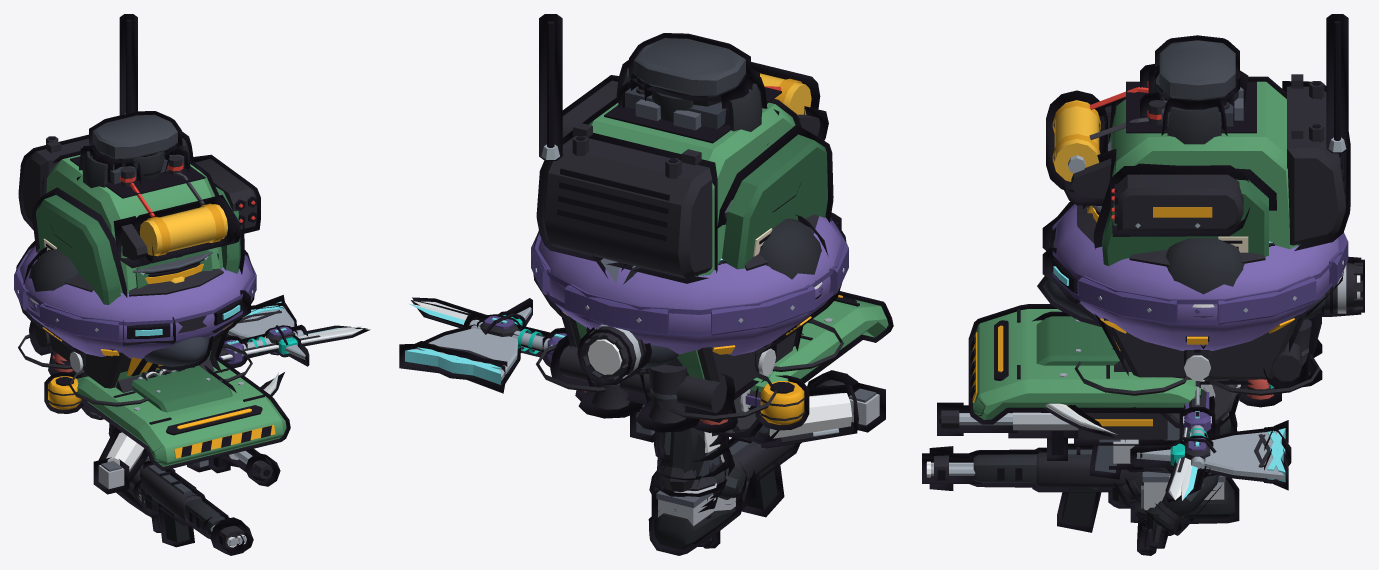
Rendered from fps-bots.glb.
The picture shows the model from 3 angles, left to right: view 1: azimuth 30°, elevation 25°; view 2: azimuth 150°, elevation 25°; view 3: azimuth 270°, elevation 25°; orthographic projection. The views are drawn at different scales.
Visible parts, largest first — view 1: BOT_GUNNER_Body, BOT_GUNNER_Lid, BOT_BLADER_Body, BOT_JET_ArmR, BOT_BLADER_Body2, BOT_JET_Hips, BOT_SOLDIER_ArmL, BOT_BLADER_Axe, BOT_BLADER_Hub, BOT_SOLDIER_ArmR, BOT_BLADER_Axe2, BOT_JET_Torso (+5 smaller); view 2: BOT_GUNNER_Body, BOT_BLADER_Body, BOT_JET_Hips, BOT_BLADER_Body2, BOT_JET_Torso, BOT_GUNNER_Lid, BOT_JET_ArmR, BOT_SOLDIER_ArmL, BOT_BLADER_Axe, BOT_HAWK_Body, BOT_BLADER_Axe2, BOT_BLADER_Hub (+9 smaller); view 3: BOT_GUNNER_Body, BOT_GUNNER_Lid, BOT_BLADER_Body, BOT_JET_ArmR, BOT_BLADER_Body2, BOT_JET_Hips, BOT_SOLDIER_ArmR, BOT_JET_Torso, BOT_BLADER_Axe2, BOT_HAWK_Body, BOT_BLADER_Axe, BOT_JET_ArmL (+10 smaller).
Part boxes in pixels (x1=…): BOT_GUNNER_Body: x1=18, y1=14, x2=260, y2=392; BOT_GUNNER_Lid: x1=72, y1=357, x2=290, y2=470; BOT_BLADER_Body: x1=16, y1=241, x2=255, y2=358; BOT_JET_ArmR: x1=129, y1=457, x2=253, y2=555; BOT_BLADER_Body2: x1=14, y1=249, x2=256, y2=345; BOT_JET_Hips: x1=78, y1=111, x2=194, y2=197; BOT_SOLDIER_ArmL: x1=93, y1=423, x2=147, y2=494; BOT_BLADER_Axe: x1=226, y1=302, x2=308, y2=363; BOT_BLADER_Hub: x1=44, y1=335, x2=247, y2=413; BOT_SOLDIER_ArmR: x1=147, y1=448, x2=280, y2=486; BOT_BLADER_Axe2: x1=227, y1=295, x2=309, y2=366; BOT_JET_Torso: x1=23, y1=247, x2=77, y2=311; BOT_GUNNER_Body: x1=536, y1=14, x2=833, y2=422; BOT_BLADER_Body: x1=532, y1=214, x2=846, y2=356; BOT_JET_Hips: x1=616, y1=33, x2=768, y2=144; BOT_BLADER_Body2: x1=531, y1=212, x2=848, y2=335; BOT_JET_Torso: x1=578, y1=214, x2=828, y2=432; BOT_GUNNER_Lid: x1=748, y1=291, x2=893, y2=409; BOT_JET_ArmR: x1=658, y1=370, x2=858, y2=517; BOT_SOLDIER_ArmL: x1=738, y1=382, x2=885, y2=448; BOT_BLADER_Axe: x1=412, y1=302, x2=555, y2=381; BOT_HAWK_Body: x1=577, y1=250, x2=783, y2=385; BOT_BLADER_Axe2: x1=399, y1=298, x2=532, y2=393; BOT_BLADER_Hub: x1=542, y1=327, x2=809, y2=430; BOT_GUNNER_Body: x1=1046, y1=14, x2=1350, y2=388; BOT_GUNNER_Lid: x1=968, y1=304, x2=1200, y2=424; BOT_BLADER_Body: x1=1050, y1=202, x2=1344, y2=350; BOT_JET_ArmR: x1=922, y1=443, x2=1170, y2=532; BOT_BLADER_Body2: x1=1042, y1=201, x2=1348, y2=341; BOT_JET_Hips: x1=1148, y1=35, x2=1248, y2=144; BOT_SOLDIER_ArmR: x1=937, y1=402, x2=1219, y2=479; BOT_JET_Torso: x1=1166, y1=238, x2=1322, y2=387; BOT_BLADER_Axe2: x1=1130, y1=420, x2=1288, y2=490; BOT_HAWK_Body: x1=1037, y1=256, x2=1364, y2=349; BOT_BLADER_Axe: x1=1140, y1=389, x2=1291, y2=483; BOT_JET_ArmL: x1=1137, y1=413, x2=1237, y2=555.
Bounding box in the file's own units: 1.58 × 2.06 × 1.49.
Materials: 1 (1 with a texture image).
